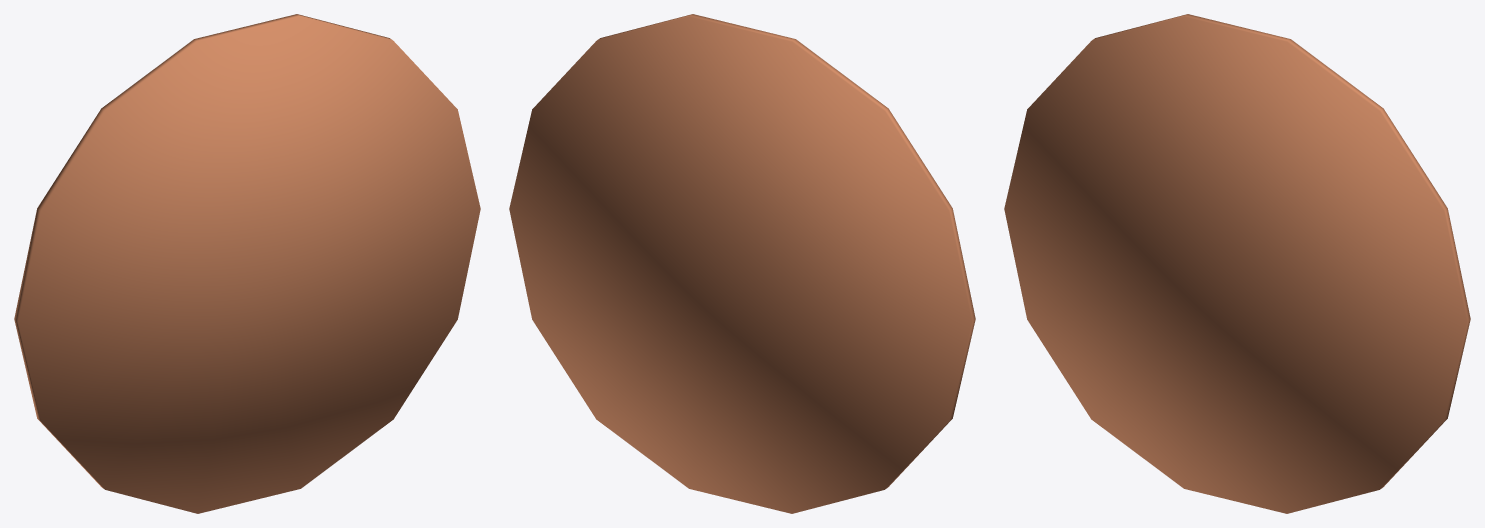
Rendered from furn_rug.glb.
3 renders of one model, left to right at view 1: azimuth 30°, elevation 25°; view 2: azimuth 150°, elevation 25°; view 3: azimuth 330°, elevation 25°, orthographic.
Visible parts, largest first — view 1: rug; view 2: rug; view 3: rug.
Part boxes in pixels (x1,y1,x2,y2): rug: (14,14,480,513); rug: (509,14,975,513); rug: (1004,14,1470,513).
Bounding box in the file's own units: 1.4 × 1.36 × 0.02.
